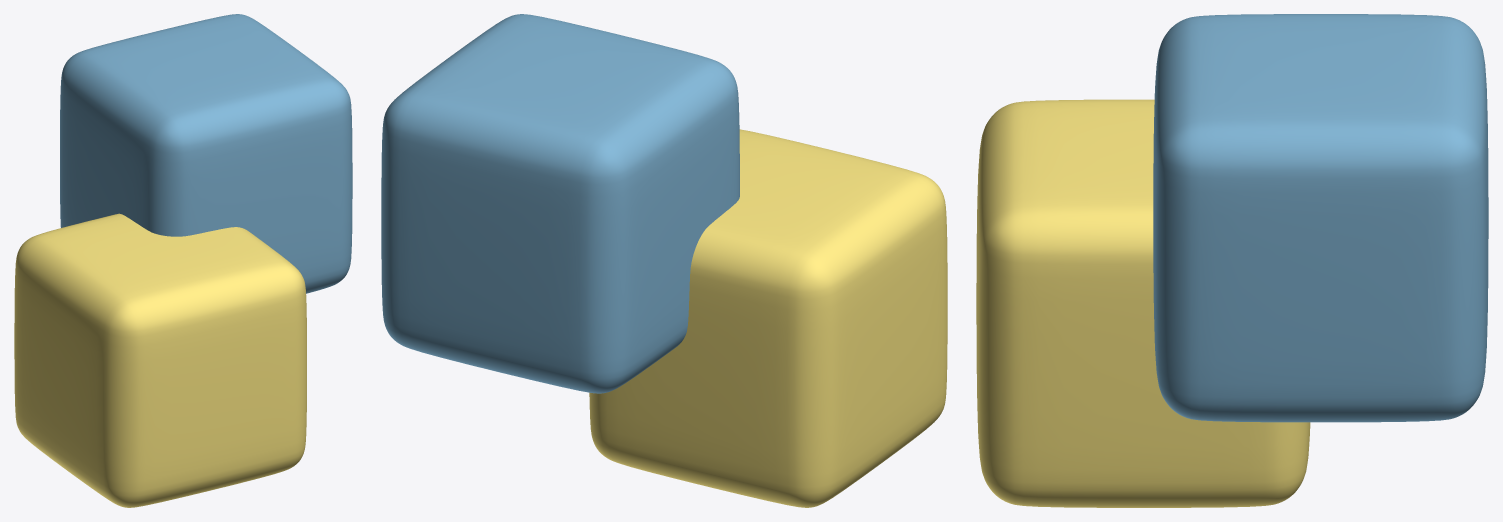
The model's file is python.glb.
3 renders of one model, left to right at view 1: azimuth 30°, elevation 25°; view 2: azimuth 150°, elevation 25°; view 3: azimuth 270°, elevation 25°, orthographic. The views are drawn at different scales.
Visible parts, largest first — view 1: Cube.001, Cube; view 2: Cube, Cube.001; view 3: Cube, Cube.001.
Part boxes in pixels (box(x1,y1,x2,y2)): Cube.001: box(14, 213, 306, 507); Cube: box(60, 14, 352, 293); Cube: box(381, 14, 739, 393); Cube.001: box(589, 129, 947, 507); Cube: box(1153, 14, 1488, 422); Cube.001: box(976, 99, 1310, 507).
Size of the model in its own units: 0.5792 by 0.5792 by 0.5792.
